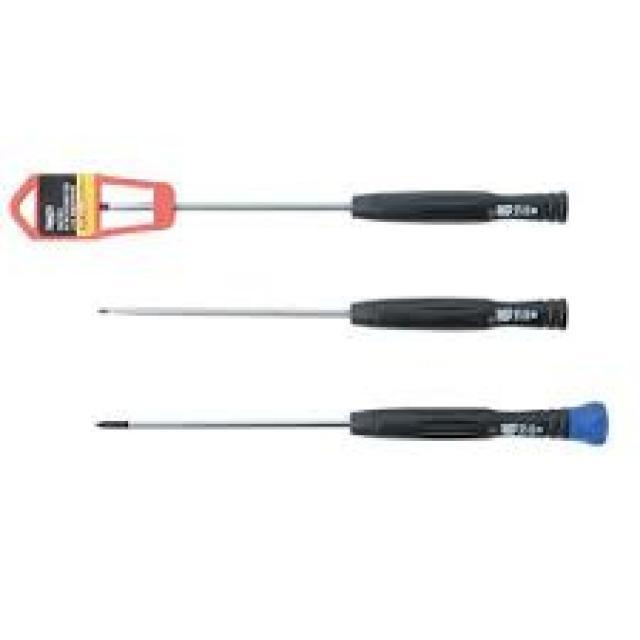screwdriver: (93, 397, 614, 451), (79, 294, 570, 337), (92, 188, 576, 225)
